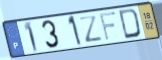1: (67, 14, 83, 48), (23, 21, 40, 53)
3: (41, 19, 61, 51)
D: (117, 7, 142, 40)
F: (98, 10, 118, 43)
Z: (77, 14, 104, 44)
